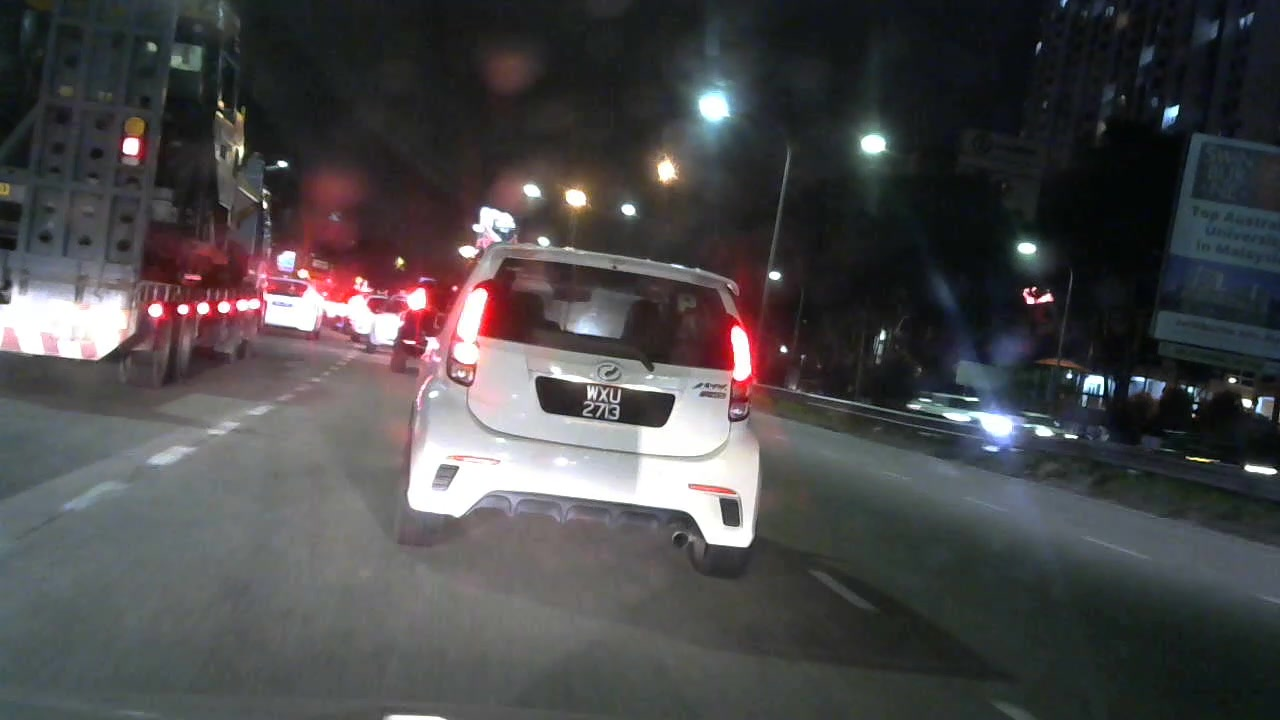Car: (443, 233, 763, 573), (901, 382, 1023, 447), (255, 271, 328, 345), (387, 267, 430, 369), (1023, 409, 1078, 446)
